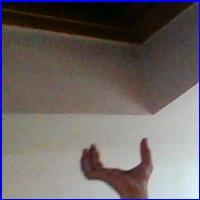space: (75, 134, 165, 196)
